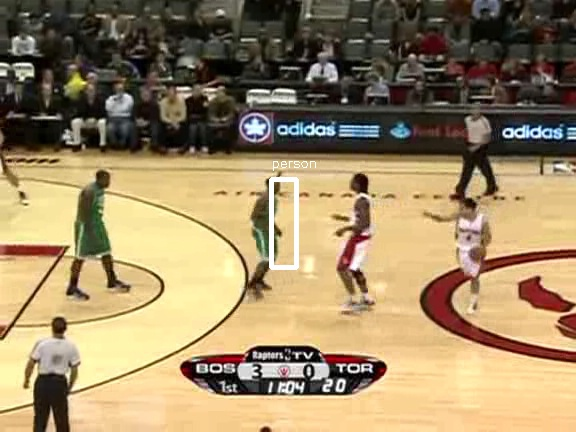person: (249, 189, 283, 270), (248, 189, 282, 270), (250, 189, 284, 270), (249, 188, 283, 269), (249, 190, 283, 271)
target_negative: (454, 208, 538, 404), (506, 242, 528, 325), (246, 364, 265, 402), (435, 274, 440, 418), (537, 191, 552, 208), (574, 35, 575, 53)
